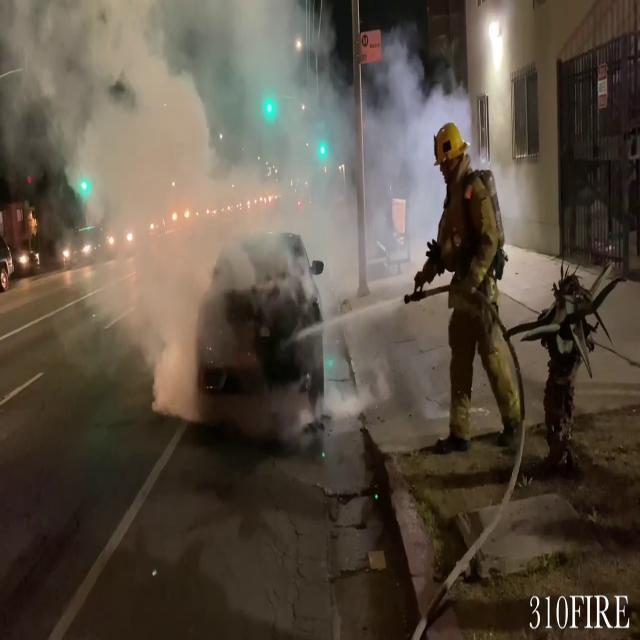Smoke: (16, 3, 440, 419)
